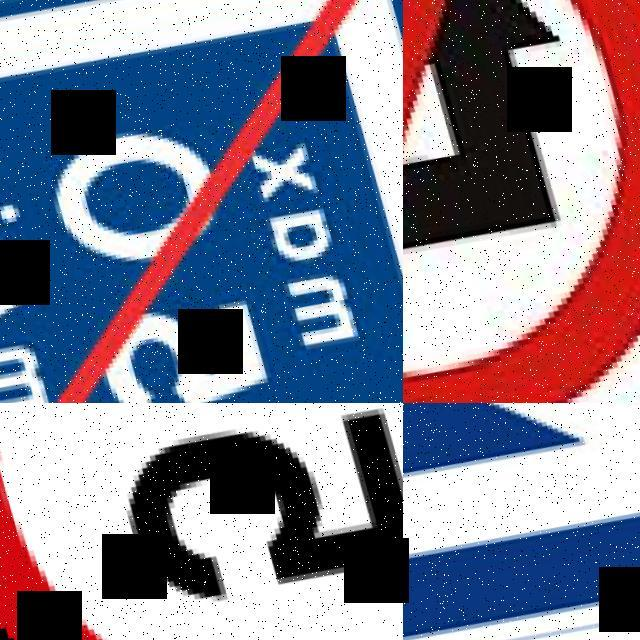103: (0, 0, 403, 403)
78: (403, 403, 640, 640)
No Right turn: (403, 0, 640, 403)
Weight limit-5ton: (0, 403, 403, 640)
